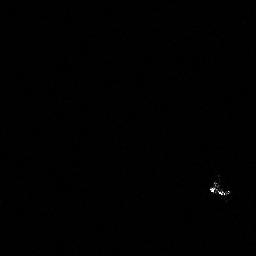ship: (210, 181, 230, 196)
